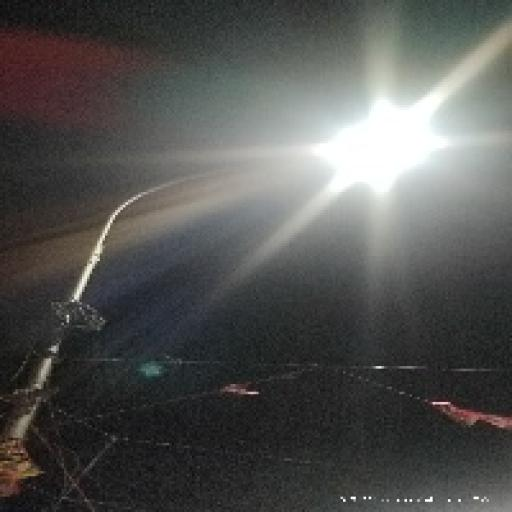Working: (310, 92, 458, 195)
